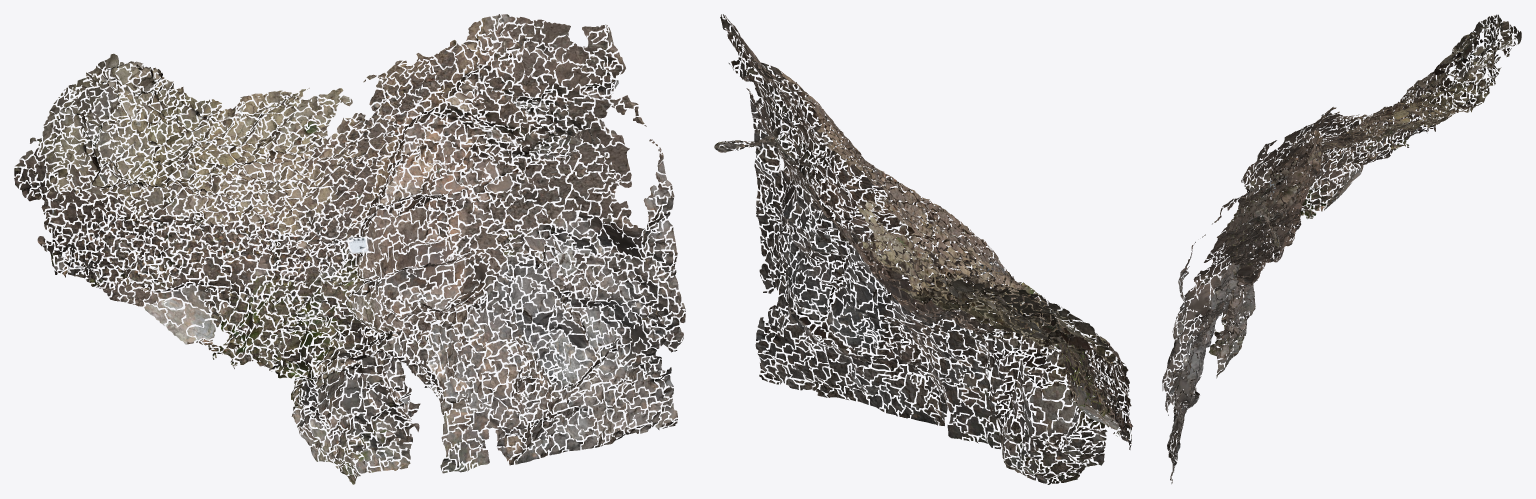
File: gst6.glb
3 views of the same model, side by side, from view 1: azimuth 30°, elevation 25°; view 2: azimuth 150°, elevation 25°; view 3: azimuth 270°, elevation 25° (orthographic). The views are drawn at different scales.
Bounding box in the file's own units: 22.59 × 16.02 × 15.56.
1 material, 1 textured.
